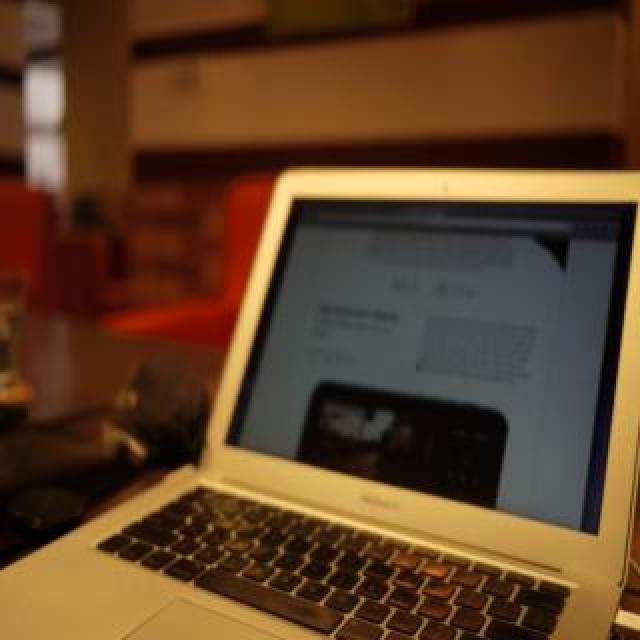laptop_computer: (27, 154, 634, 636)
